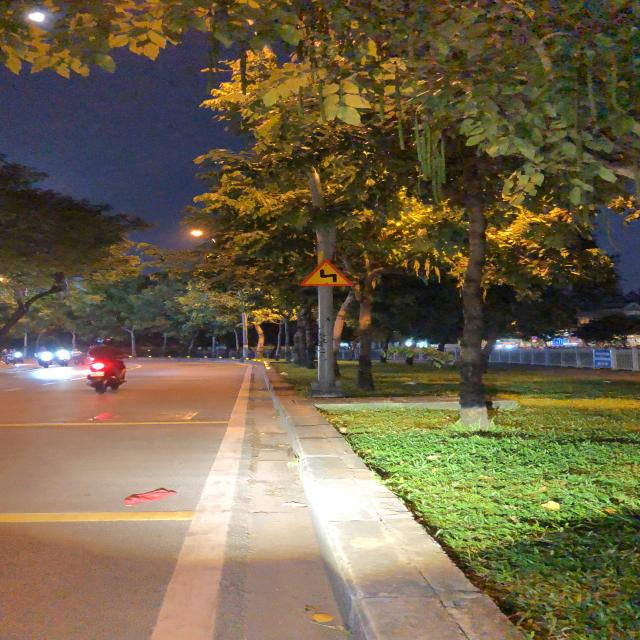Bien bao nhieu cho ngoat nguy hiem lien tiep: (295, 259, 357, 290)
